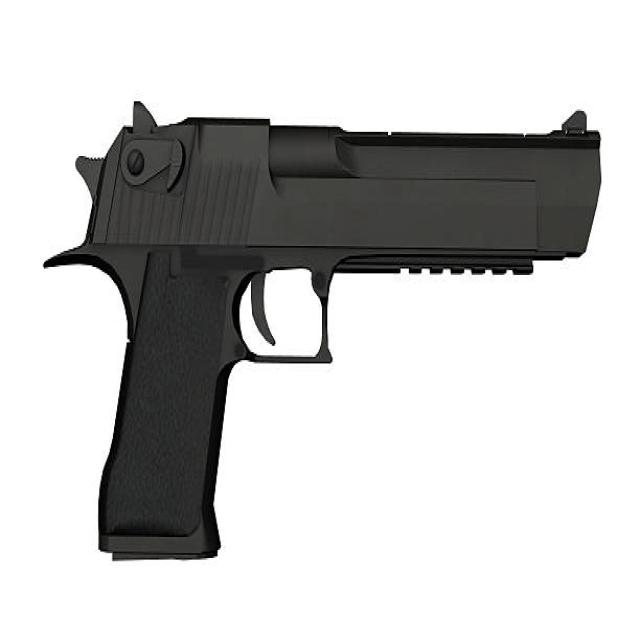pistol: (41, 100, 604, 570)
